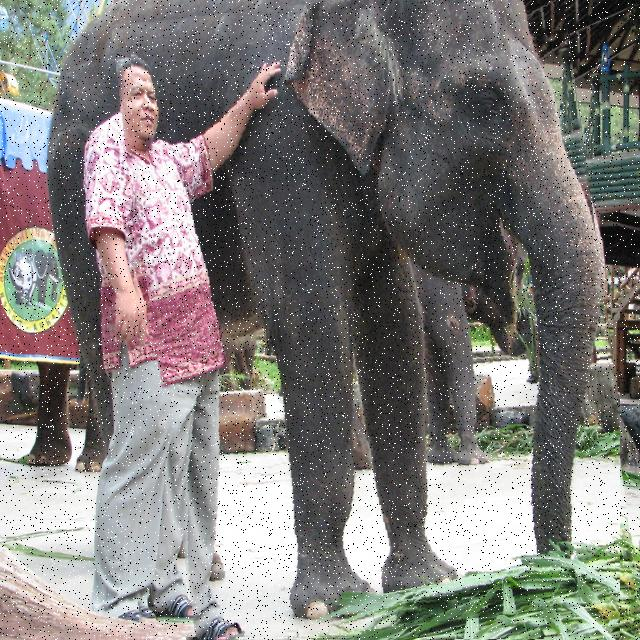elephant: (130, 0, 620, 640)
